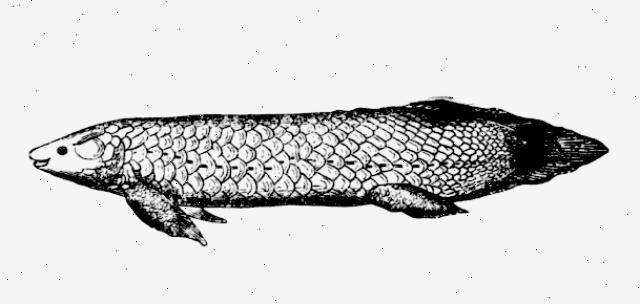Mulut: (20, 141, 60, 181)
Sirip Dada: (116, 178, 237, 256)
Sirip Ekor: (484, 88, 620, 210)
Sirip Perut: (362, 174, 480, 236)
